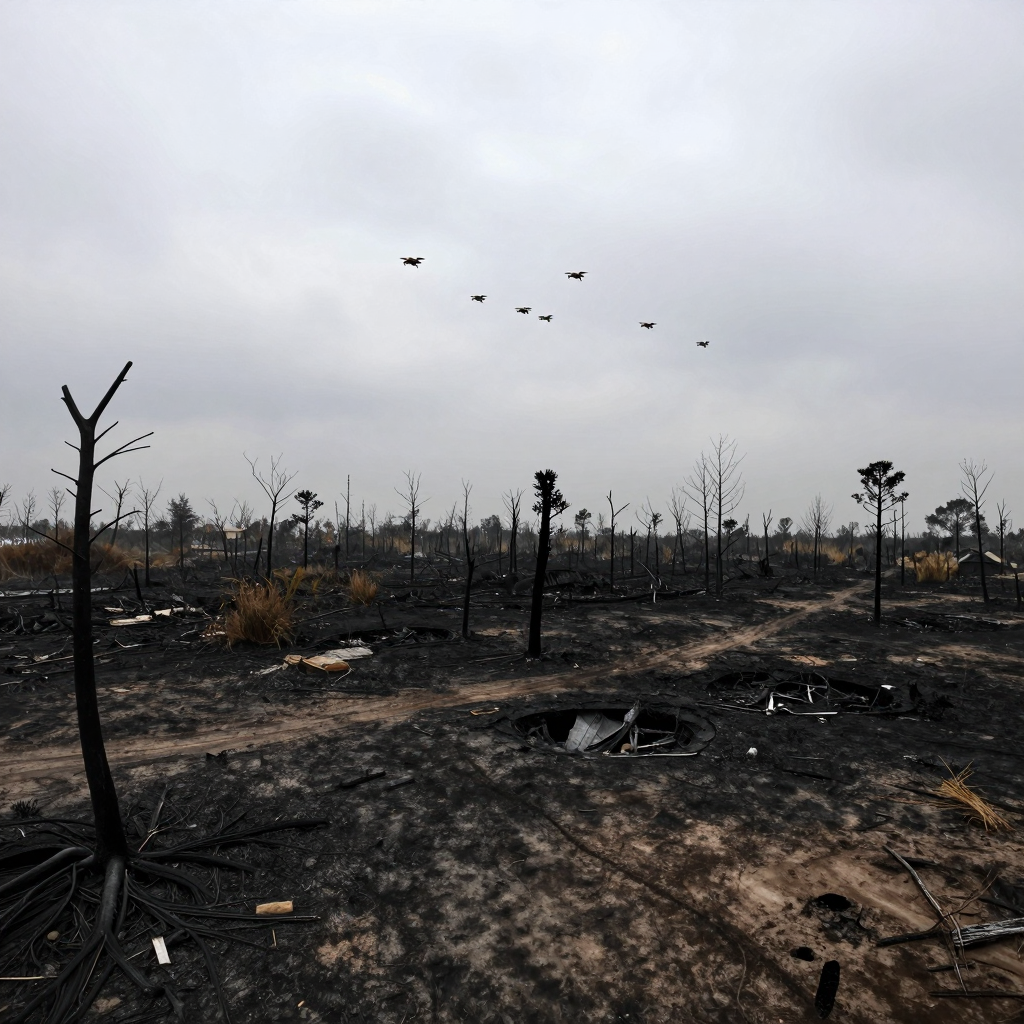drone: (398, 255, 425, 268), (565, 271, 588, 281), (639, 322, 657, 330), (470, 295, 488, 303), (514, 307, 532, 315), (538, 315, 554, 323), (696, 341, 710, 348)
